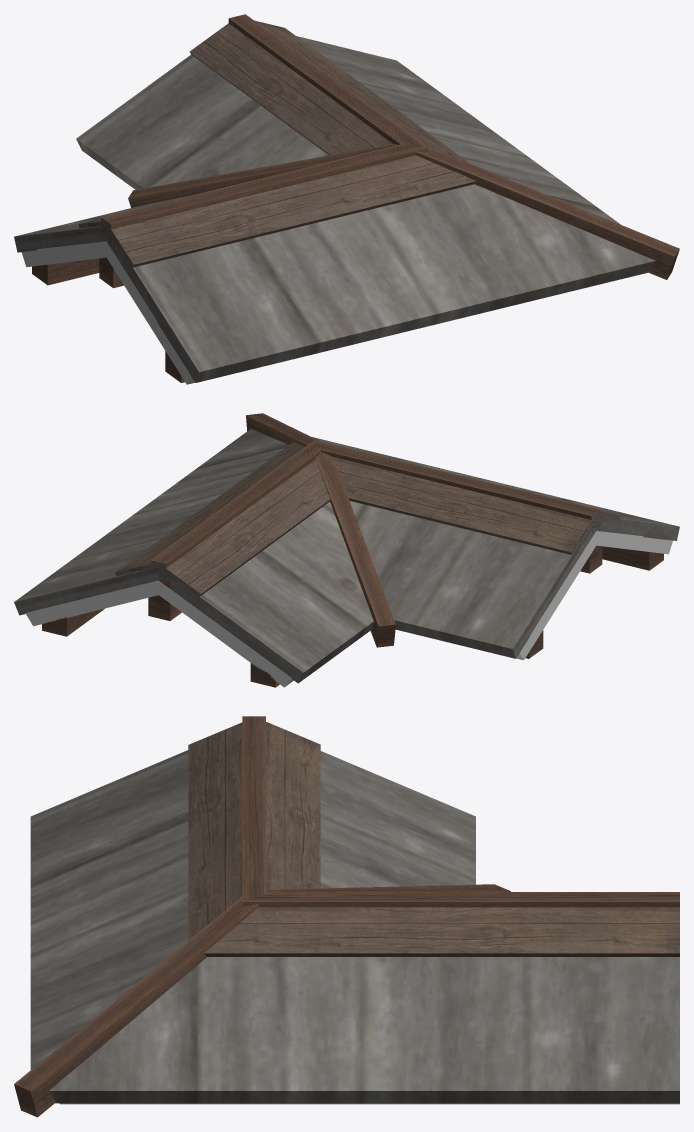
The model's file is fence_top2a_corner2.fbx.
The picture shows the model from 3 angles, top to bottom: view 1: azimuth 30°, elevation 25°; view 2: azimuth 150°, elevation 25°; view 3: azimuth 270°, elevation 25°; orthographic projection. The views are drawn at different scales.
Parts seen in each view (by area): view 1: fence_top2a_corner2; view 2: fence_top2a_corner2; view 3: fence_top2a_corner2.
Boxes of the visible parts, box(x1,y1,x2,y2) form: fence_top2a_corner2: box(14, 14, 679, 384); fence_top2a_corner2: box(14, 413, 679, 687); fence_top2a_corner2: box(14, 716, 679, 1117).
Size of the model in its own units: 226 by 48.2 by 226.
